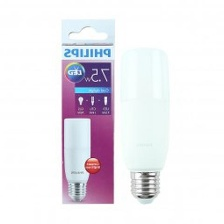carton: (57, 16, 119, 207)
light_bulb: (115, 43, 175, 206)
